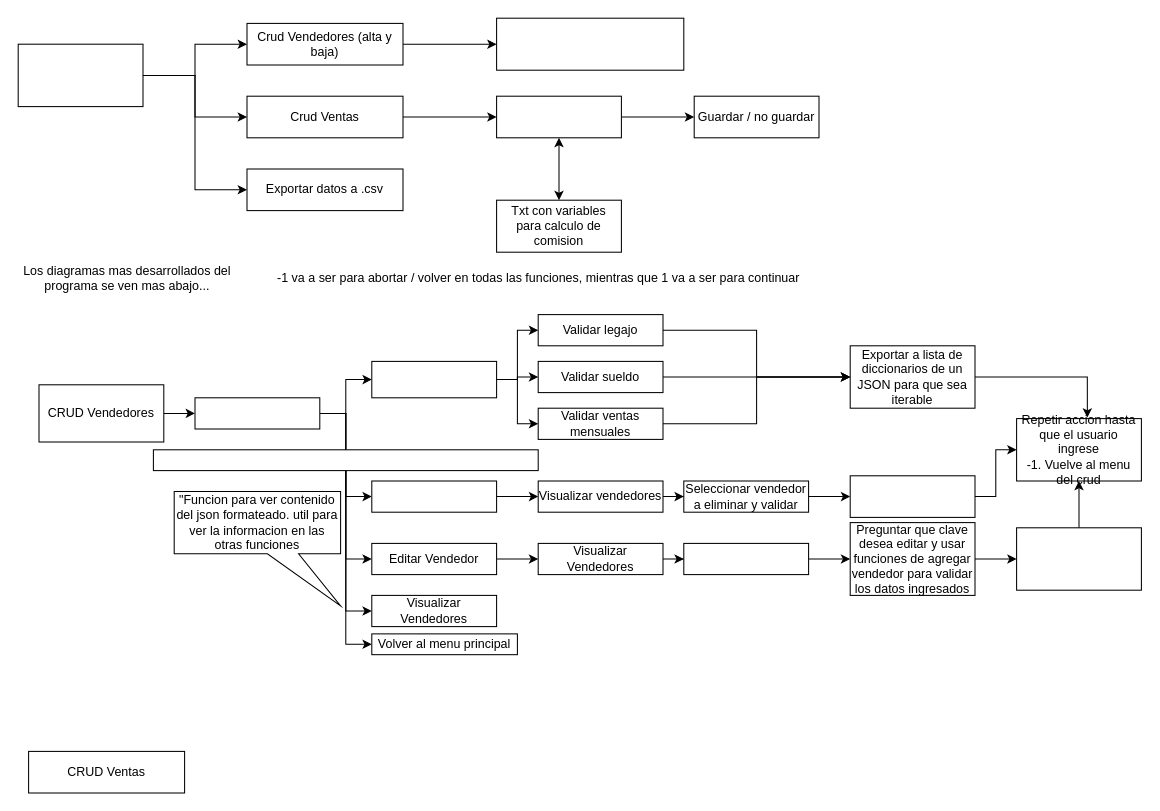
Image size: 1160x811. Some labels were removed from this diagram. Each missing label, with the box of its shape:
Agregar Vendedor: (371, 360, 497, 398)
Datos en lista de diccionarios en un json. pos de lista es id: (496, 17, 684, 70)
Editar valores de la lista y guardar json: (1016, 527, 1141, 590)
Eliminar diccionario de la lista y guardar json: (849, 475, 975, 517)
Eliminar Vendedor: (371, 480, 497, 512)
Generar reporte: (496, 95, 621, 138)
Main menu: (194, 397, 320, 429)
Menu principal -1 para salir del programa: (17, 43, 143, 107)
Seleccionar vendedor a editar y validar: (683, 542, 809, 575)
Validar que el json exista y no este vacio antes de permitir ejecutar:: (152, 449, 538, 471)
